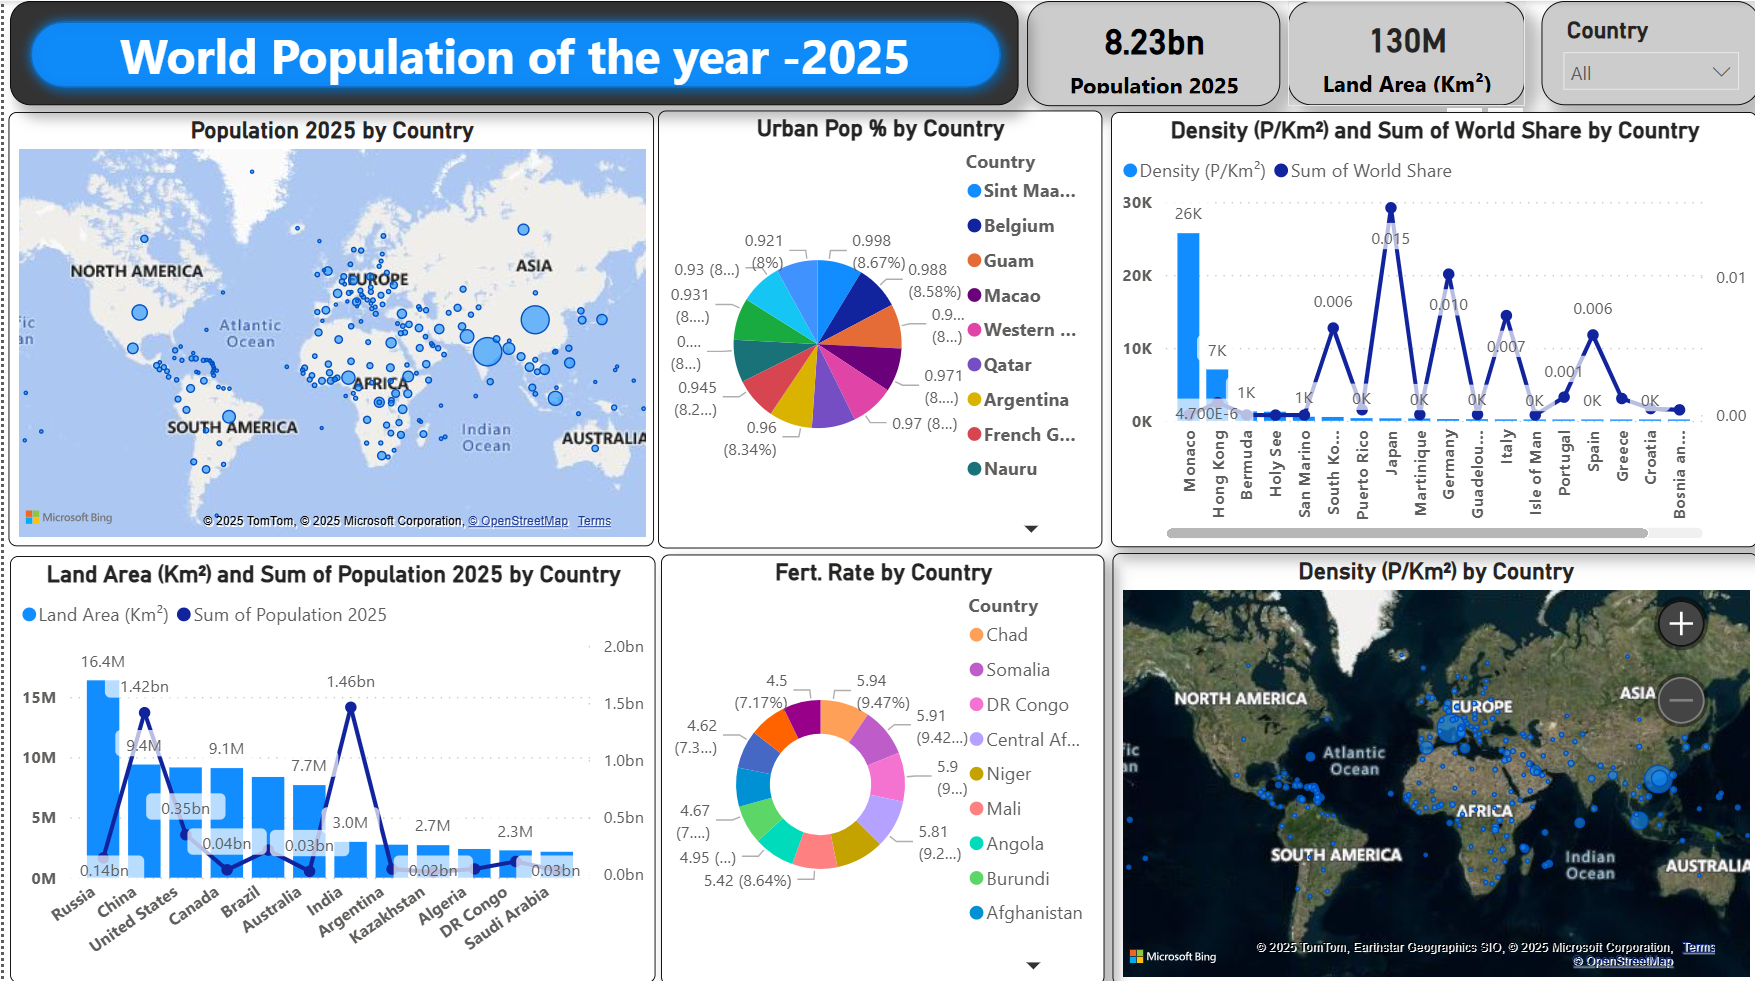

What the dashboard file says about the page in this screenshot:
{"tool":"powerbi","page":{"name":"Dashboard","canvas":[1280,720],"ordinal":0},"visuals":[{"type":"card","fields":{"Values":["Sum(World data.Population 2025)"]},"box":[745.9,0,184.8,76.6],"z":0},{"type":"card","fields":{"Values":["Sum(World data.Land Area (Km²))"]},"box":[935.8,0,172.7,76.1],"z":1000},{"type":"slicer","fields":{"Values":["World data.Country"]},"box":[1120.6,0,159.4,76.1],"z":2000},{"type":"map","fields":{"Category":["World data.Country"],"Size":["Sum(World data.Population 2025)"]},"box":[3.6,80.9,470.9,316.4],"z":3000},{"type":"map","fields":{"Category":["World data.Country"],"Size":["Sum(World data.Density (P/Km²))"]},"box":[807.8,402.1,470.9,315.2],"z":4000},{"type":"lineClusteredColumnComboChart","fields":{"Category":["World data.Country"],"Y":["Sum(World data.Land Area (Km²))"],"Y2":["Sum(World data.Population 2025)"]},"box":[4.8,404.5,470.9,311.5],"z":5000},{"type":"donutChart","fields":{"Category":["World data.Country"],"Y":["Sum(World data.Fert. Rate)"]},"box":[479.4,403.3,323.6,314],"z":6000},{"type":"pieChart","fields":{"Category":["World data.Country"],"Y":["Sum(World data.Urban Pop %)"]},"box":[476.8,79.8,323.7,319.4],"z":7000},{"type":"lineStackedColumnComboChart","fields":{"Category":["World data.Country"],"Y":["Sum(World data.Density (P/Km²))"],"Y2":["Sum(World data.World Share)"]},"box":[807.1,80.9,471.4,317.2],"z":8000},{"type":"shape","box":[4.8,0,735.4,76.1],"z":9000}]}

Visuals, with their boxes in screenshot pixels (x1, y1, x2, y2), scaled from the page's 1280x720 canvas onto the 1755x981 screenshot:
card - Sum(World data.Population 2025): x1=1023, y1=0, x2=1276, y2=104
card - Sum(World data.Land Area (Km²)): x1=1283, y1=0, x2=1520, y2=104
slicer - World data.Country: x1=1536, y1=0, x2=1754, y2=104
map - World data.Country x Sum(World data.Population 2025): x1=5, y1=110, x2=651, y2=541
map - World data.Country x Sum(World data.Density (P/Km²)): x1=1108, y1=548, x2=1753, y2=977
lineClusteredColumnComboChart - World data.Country x Sum(World data.Land Area (Km²)): x1=7, y1=551, x2=652, y2=976
donutChart - World data.Country x Sum(World data.Fert. Rate): x1=657, y1=549, x2=1101, y2=977
pieChart - World data.Country x Sum(World data.Urban Pop %): x1=654, y1=109, x2=1098, y2=544
lineStackedColumnComboChart - World data.Country x Sum(World data.Density (P/Km²)): x1=1107, y1=110, x2=1753, y2=542
shape: x1=7, y1=0, x2=1015, y2=104
